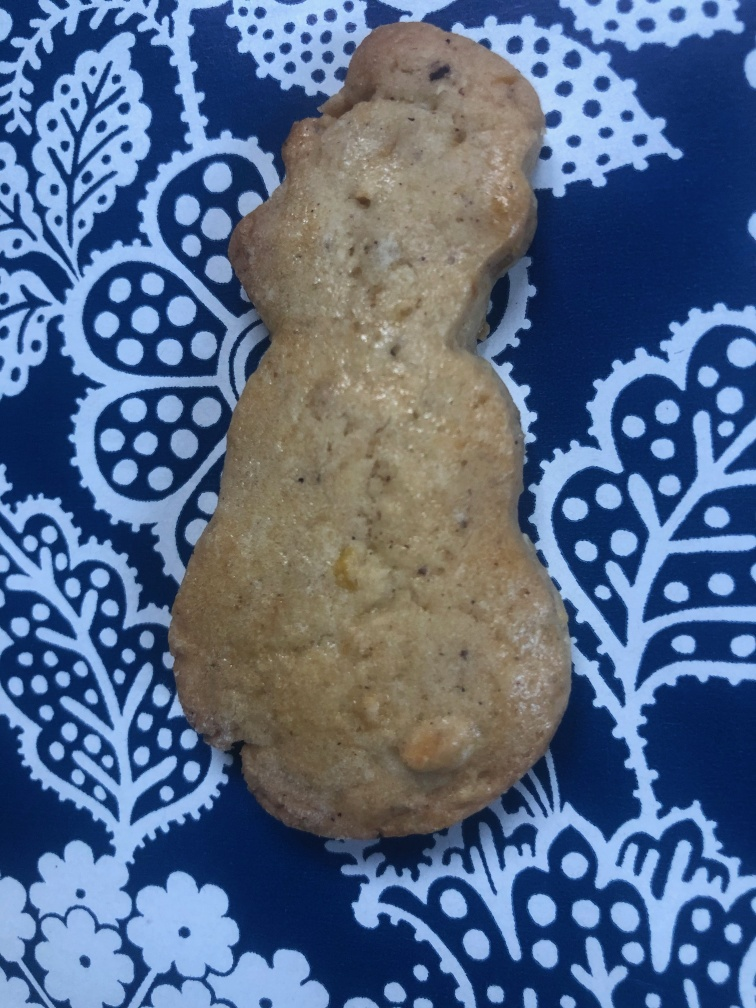snowman: (165, 17, 574, 839)
